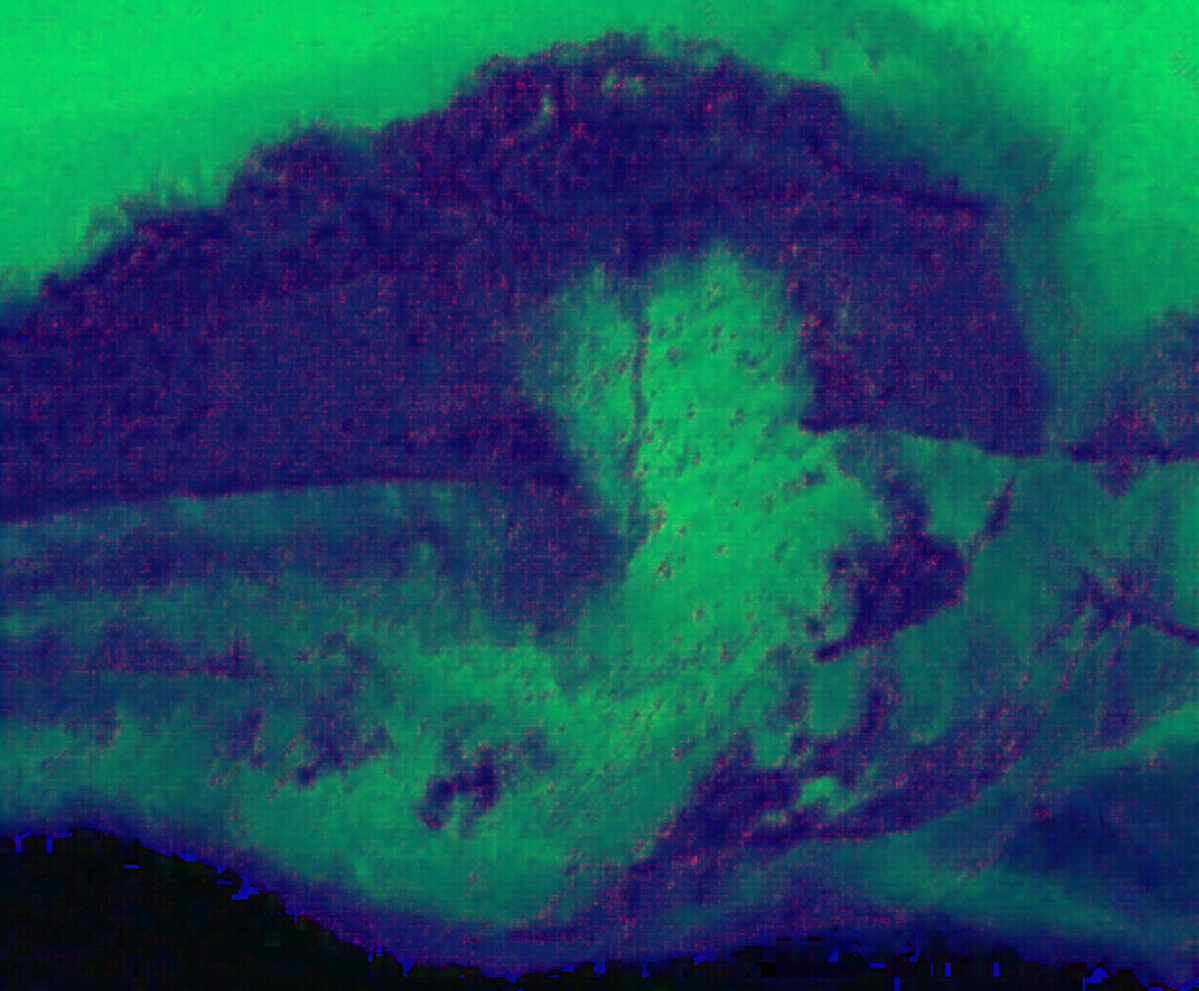rip_current: (456, 174, 878, 921)
